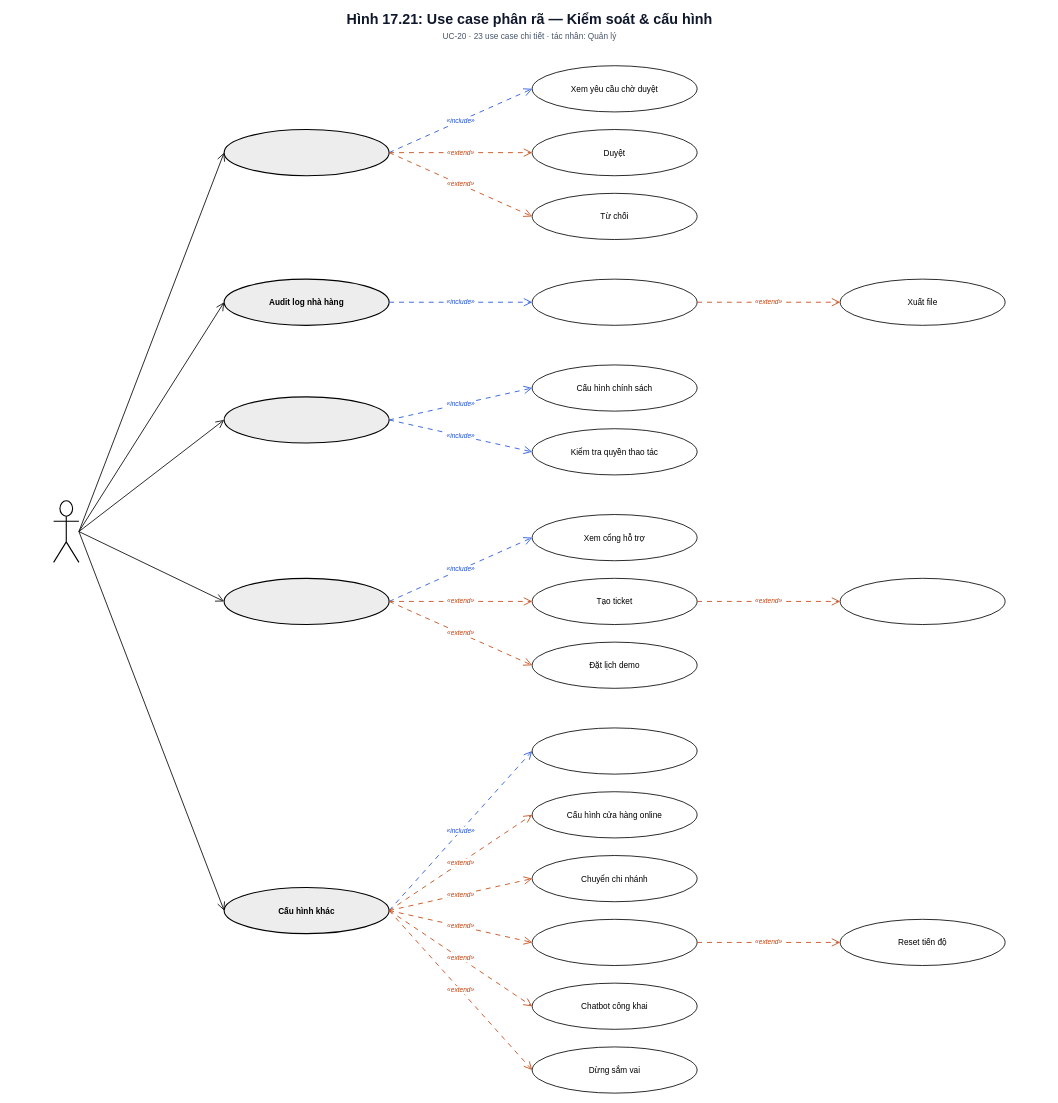
This 1058x1103 diagram has some shape labels left out. The box of each missing label's shape, as (x1, y1, x2, y2) in pixels:
Dashboard tổng quan: (531, 727, 697, 774)
Hỗ trợ (tenant): (223, 578, 389, 625)
Kiểm duyệt chéo: (223, 129, 389, 176)
Onboarding / tour: (531, 919, 697, 966)
Phân quyền chi tiết: (223, 396, 389, 443)
Quản lý: (53, 500, 79, 563)
Trả lời ticket: (839, 578, 1005, 625)
Xem nhật ký: (531, 278, 697, 325)
